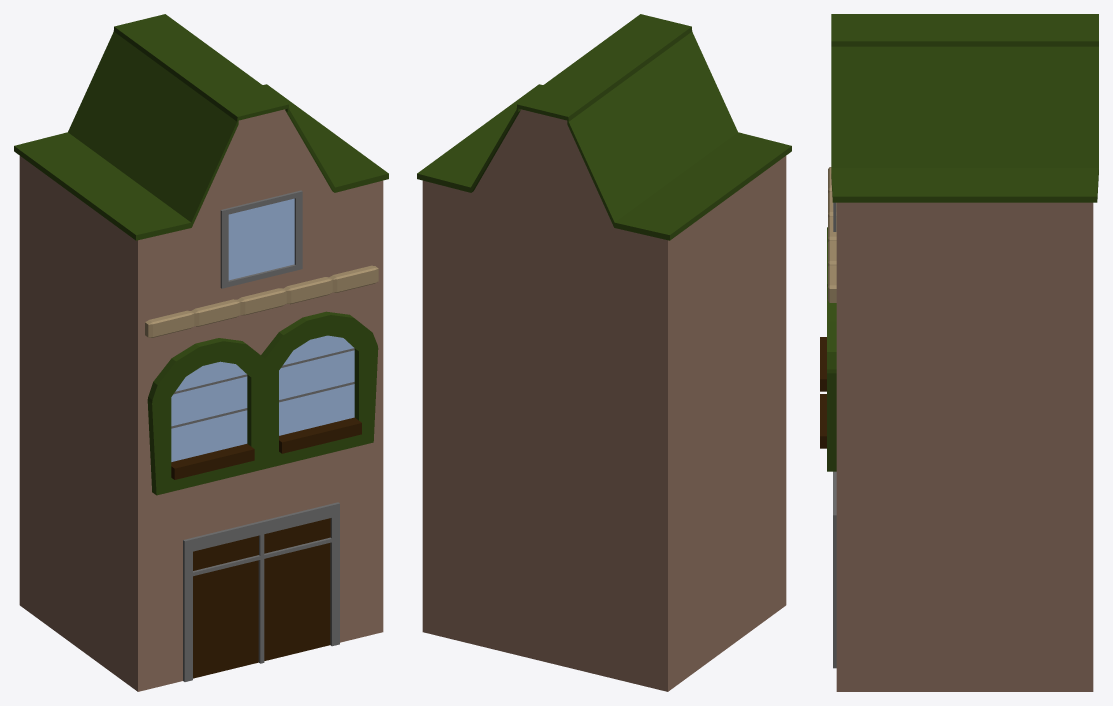
Rendered from House2Fixed.fbx.
The picture shows the model from 3 angles, left to right: view 1: azimuth 30°, elevation 25°; view 2: azimuth 150°, elevation 25°; view 3: azimuth 270°, elevation 25°; orthographic projection. The views are drawn at different scales.
Visible parts, largest first — view 1: House2Lvl1; view 2: House2Lvl1; view 3: House2Lvl1.
Boxes of the visible parts, <box> form: House2Lvl1: <box>14,14,388,691</box>; House2Lvl1: <box>417,14,791,691</box>; House2Lvl1: <box>820,14,1098,691</box>.
Bounding box in the file's own units: 62.79 × 131 × 55.35.
